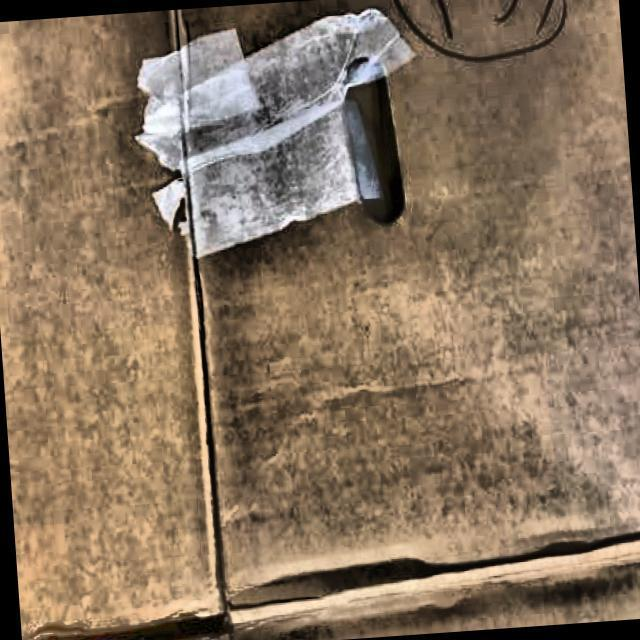cardboard: (127, 3, 427, 264)
